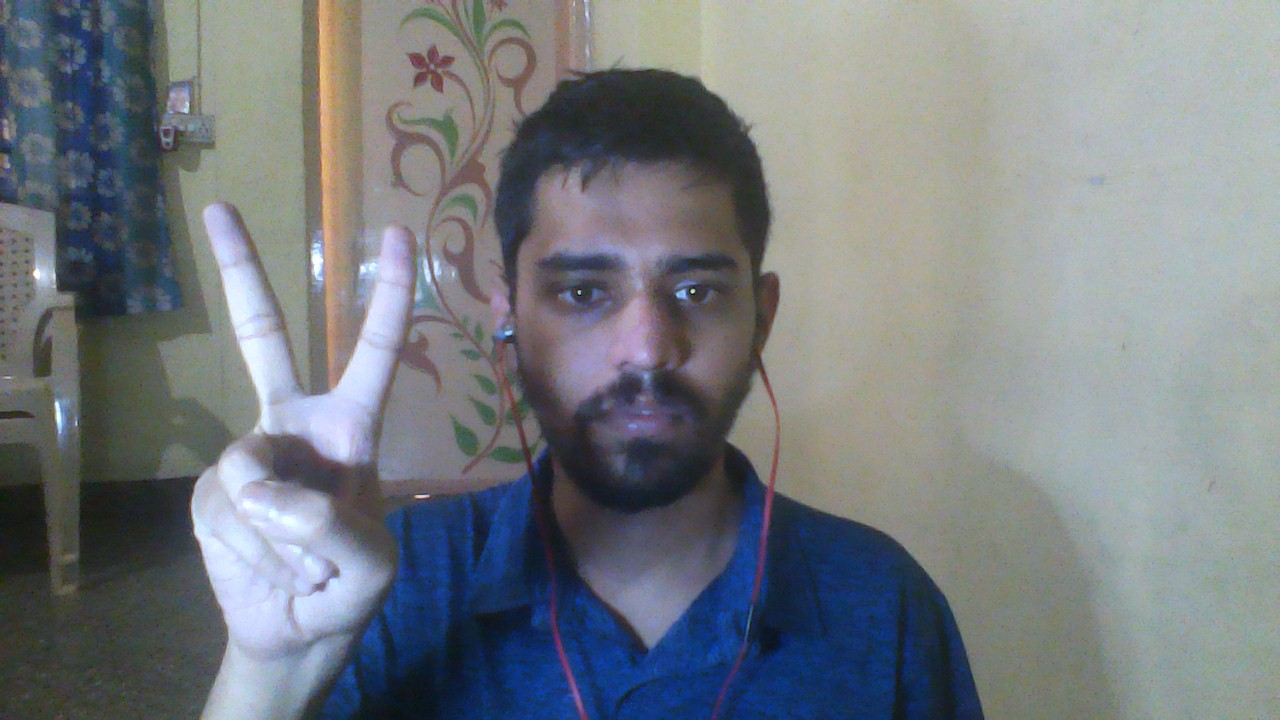v: (135, 179, 461, 720)
